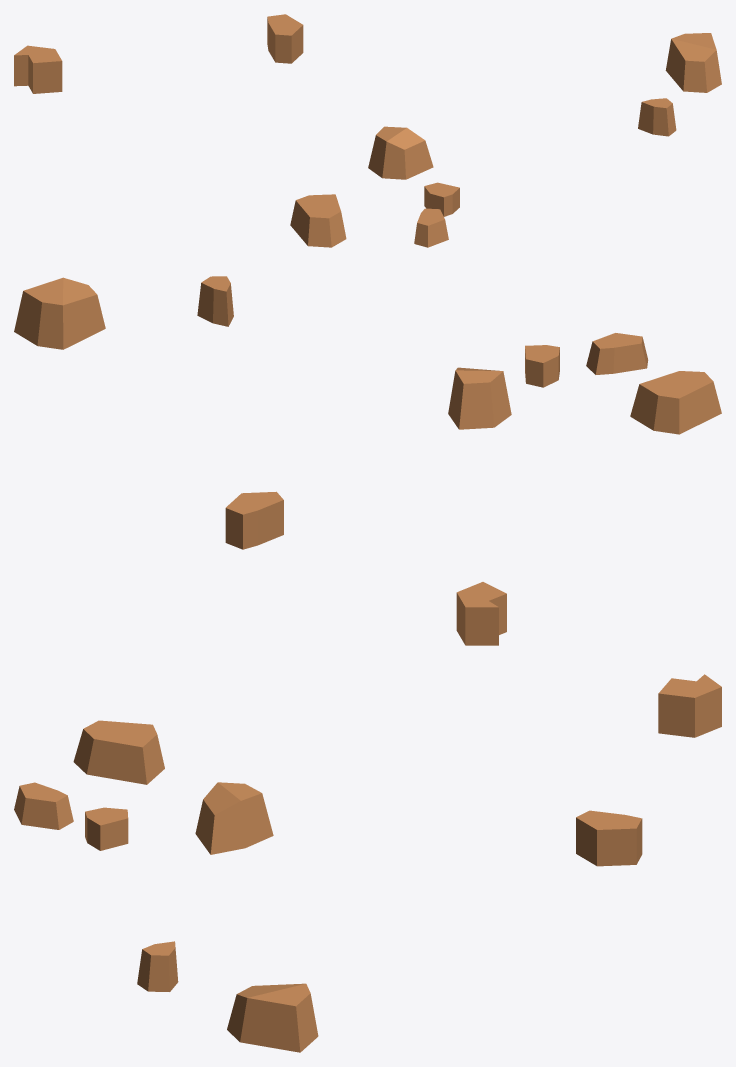
The model's file is SandRocks16_LOD1.fbx.
The picture shows the model from 3 angles, top to bottom: view 1: azimuth 30°, elevation 25°; view 2: azimuth 150°, elevation 25°; view 3: azimuth 270°, elevation 25°; orthographic projection. The views are drawn at different scales.
Parts seen in each view (by area): view 1: 16; view 2: 16; view 3: 16.
Boxes of the visible parts, x1,y1,x2,y2 form: 16: (14,14,721,247); 16: (14,276,721,645); 16: (14,674,721,1052).
Size of the model in its own units: 157 by 10.87 by 137.
